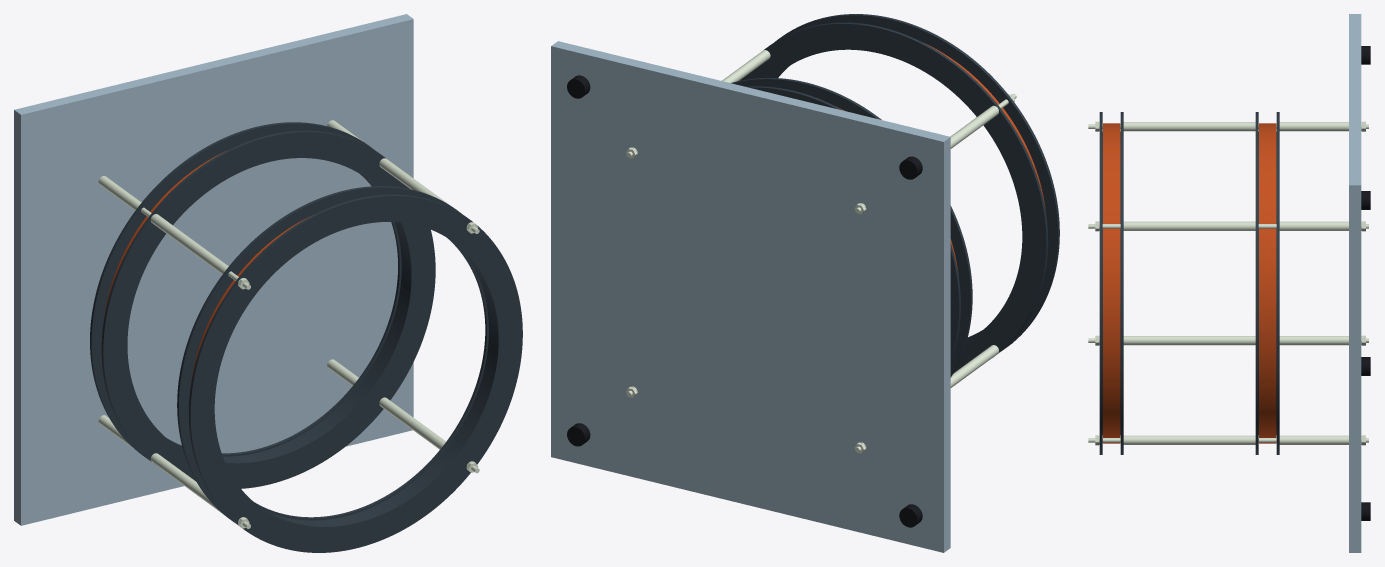
The model's file is montagem.obj.
3 views of the same model, side by side, from view 1: azimuth 30°, elevation 25°; view 2: azimuth 150°, elevation 25°; view 3: azimuth 270°, elevation 25° (orthographic). The views are drawn at different scales.
Visible parts, largest first — view 1: base_260x260x8, carretel_2, carretel_1, esp_meio_2, esp_meio_4, esp_meio_3, esp_meio_1; view 2: base_260x260x8, carretel_2, carretel_1, esp_meio_2, esp_meio_3; view 3: base_260x260x8, enrolamento_1, enrolamento_2, carretel_1, carretel_2, esp_meio_1, esp_meio_2, esp_meio_3, esp_meio_4, esp_inf_1, esp_inf_2, esp_inf_3 (+1 smaller).
Part boxes in pixels (x1,y1,x2,y2): base_260x260x8: (14, 14, 413, 525); carretel_2: (177, 186, 522, 552); carretel_1: (90, 122, 435, 488); esp_meio_2: (150, 214, 228, 274); esp_meio_4: (379, 397, 445, 449); esp_meio_3: (150, 453, 223, 514); esp_meio_1: (379, 158, 450, 205); base_260x260x8: (551, 41, 950, 552); carretel_2: (739, 14, 1059, 372); carretel_1: (731, 78, 972, 377); esp_meio_2: (950, 105, 998, 148); esp_meio_3: (950, 345, 998, 387); base_260x260x8: (1349, 14, 1361, 552); enrolamento_1: (1259, 123, 1276, 443); enrolamento_2: (1103, 123, 1120, 443); carretel_1: (1255, 112, 1279, 454); carretel_2: (1099, 112, 1123, 454); esp_meio_1: (1123, 221, 1255, 230); esp_meio_2: (1123, 122, 1255, 131); esp_meio_3: (1123, 336, 1255, 345); esp_meio_4: (1123, 435, 1255, 444); esp_inf_1: (1279, 221, 1348, 230); esp_inf_2: (1279, 122, 1348, 131); esp_inf_3: (1279, 336, 1348, 345).
Bounding box in the file's own units: 260 × 260 × 181.
